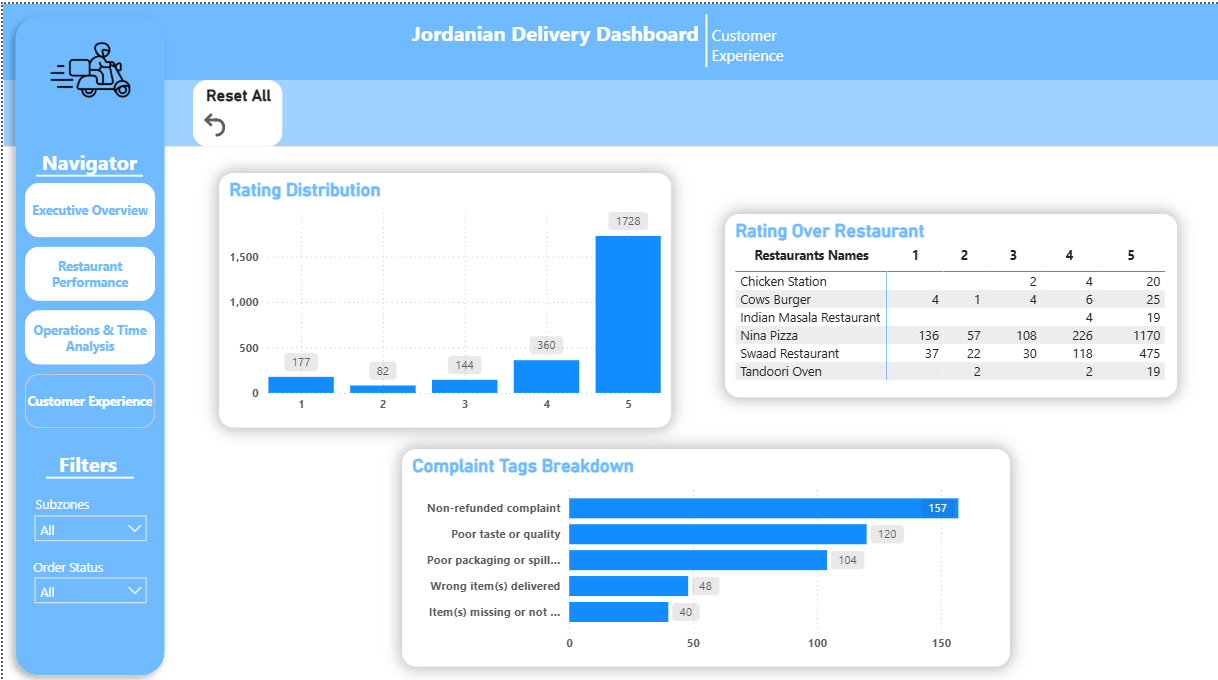

What the dashboard file says about the page in this screenshot:
{"tool":"powerbi","page":{"name":"Customer Experience","canvas":[1280,720],"ordinal":3},"visuals":[{"type":"textbox","box":[741.2,0,112,76.8],"z":0,"group":"g1"},{"type":"shape","box":[0,70,1280,80],"z":0},{"type":"shape","box":[0,0,1280,80],"z":1000},{"type":"shape","box":[703.8,10.9,74.5,56.2],"z":1000,"group":"g1"},{"type":"shape","box":[0,0,183.2,719.9],"z":2000},{"type":"textbox","box":[425.6,10.7,315.6,76.8],"z":2000,"group":"g1"},{"type":"image","box":[41.6,27.3,100.1,84.5],"z":3000},{"type":"textbox","box":[36.2,146.2,112.5,42.5],"z":4000},{"type":"pageNavigator","box":[23.4,188.4,137.7,258.6],"z":5000},{"type":"shape","box":[35,146.2,112.5,68.8],"z":6000},{"type":"textbox","box":[25.8,464.2,126.3,41.6],"z":7000},{"type":"slicer","title":"Subzones","fields":{"Values":["order_history.Subzones"]},"box":[23,528,138,46],"z":8000},{"type":"slicer","title":"Subzones","fields":{"Values":["order_history.Order Status"]},"box":[23,594,138,46],"z":9000},{"type":"textbox","box":[10,513,104,30],"z":10000},{"type":"textbox","box":[23,579,91,30],"z":11000},{"type":"shape","box":[45,463.8,92.5,68.8],"z":12000},{"type":"actionButton","title":"Reset All","box":[200,80,94.4,70],"z":13000},{"type":"group","id":"g1","title":"Group 4","box":[425.6,0,427.8,87.8],"z":14000},{"type":"group","id":"g2","title":"Group 1","box":[419.8,221.1,816.5,475.8],"z":15000},{"type":"clusteredColumnChart","title":"Rating Distribution","fields":{"Category":["order_history.Rating"],"Y":["CountNonNull(order_history.Order ID)"]},"box":[227.5,177.5,476.2,267.5],"z":17000},{"type":"pivotTable","title":"Rating Over Restaurant","fields":{"Rows":["order_history.Restaurants Names"],"Values":["CountNonNull(order_history.Rating)"],"Columns":["order_history.Rating"]},"box":[760,221.1,476.2,192.5],"z":17000,"group":"g2"},{"type":"clusteredBarChart","title":"Complaint Tags Breakdown","fields":{"Y":["CountNonNull(order_history.Order ID)"],"Category":["order_history.Customer complaint tag"]},"box":[419.8,468.1,640,228.8],"z":18000,"group":"g2"}]}

Visuals, with their boxes in screenshot pixels (x1, y1, x2, y2), scaled from the page's 1280x720 canvas onto the 1218x680 screenshot:
textbox: bbox=(705, 0, 812, 73)
shape: bbox=(0, 66, 1217, 142)
shape: bbox=(0, 0, 1217, 76)
shape: bbox=(670, 10, 741, 63)
shape: bbox=(0, 0, 174, 679)
textbox: bbox=(405, 10, 705, 83)
image: bbox=(40, 26, 135, 106)
textbox: bbox=(34, 138, 141, 178)
pageNavigator: bbox=(22, 178, 153, 422)
shape: bbox=(33, 138, 140, 203)
textbox: bbox=(25, 438, 145, 478)
"Subzones" slicer: bbox=(22, 499, 153, 542)
"Subzones" slicer: bbox=(22, 561, 153, 604)
textbox: bbox=(10, 484, 108, 513)
textbox: bbox=(22, 547, 108, 575)
shape: bbox=(43, 438, 131, 503)
"Reset All" actionButton: bbox=(190, 76, 280, 142)
"Group 4" group: bbox=(405, 0, 812, 83)
"Group 1" group: bbox=(399, 209, 1176, 658)
"Rating Distribution" clusteredColumnChart: bbox=(216, 168, 670, 420)
"Rating Over Restaurant" pivotTable: bbox=(723, 209, 1176, 391)
"Complaint Tags Breakdown" clusteredBarChart: bbox=(399, 442, 1008, 658)
